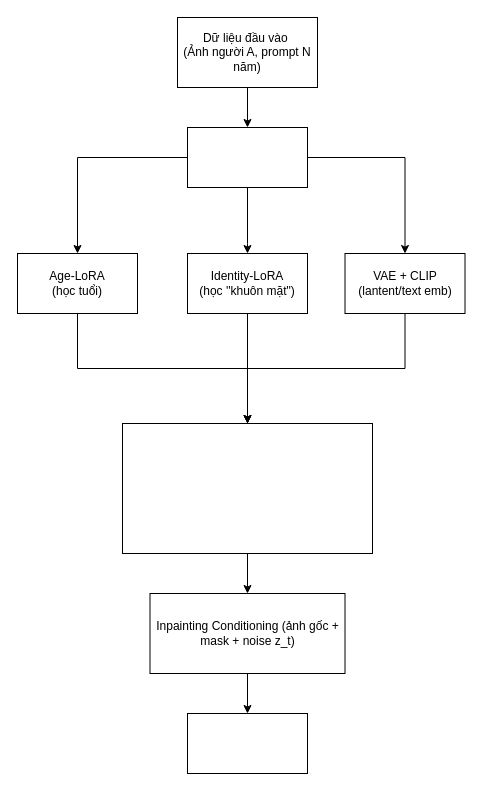
The diagram is 483 pixels wide and 791 high, and some of its shapes have lost their labels. Here are the shapes that lost their labels. From the top down, the centre of each, then its label:
At point 247,157: "Xử lý và Tiền xử lý dữ liệu (mask + caption)".
At point 247,488: "Stable Diffusion 1.5 Unet ((denoising latent, cross-attn LoRA))".
At point 247,743: "Output (Ảnh đã chỉnh tuổi)".
